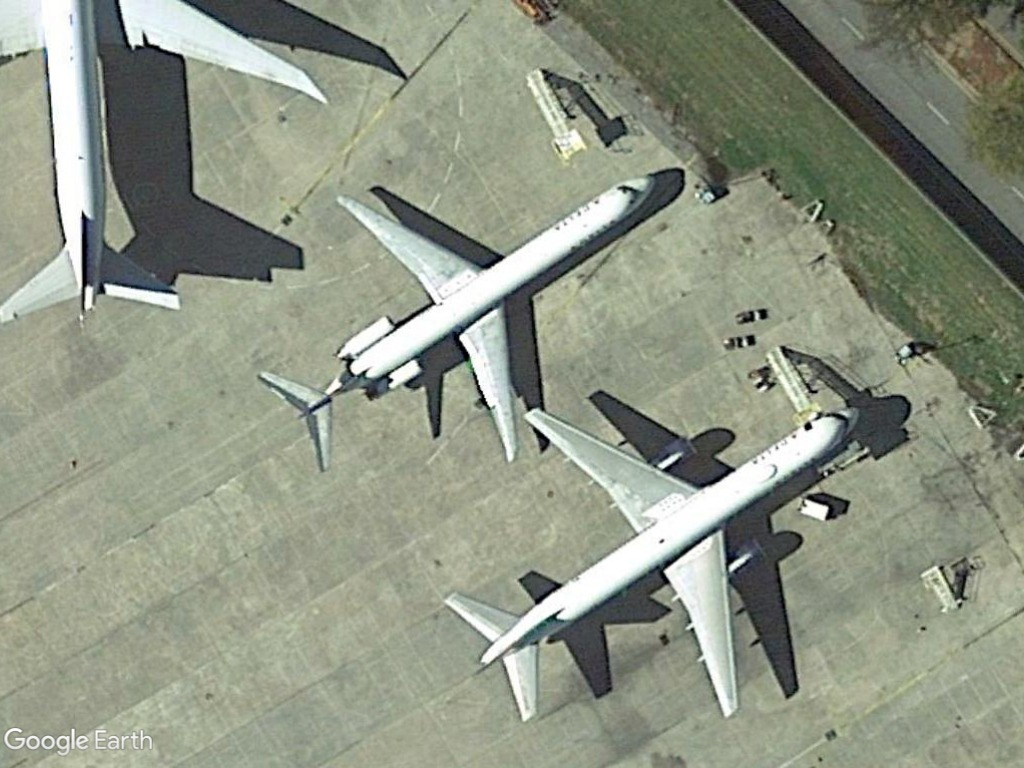chartered: (443, 397, 863, 734), (254, 165, 656, 486)
stairtruck: (524, 63, 592, 166), (760, 340, 823, 428)
